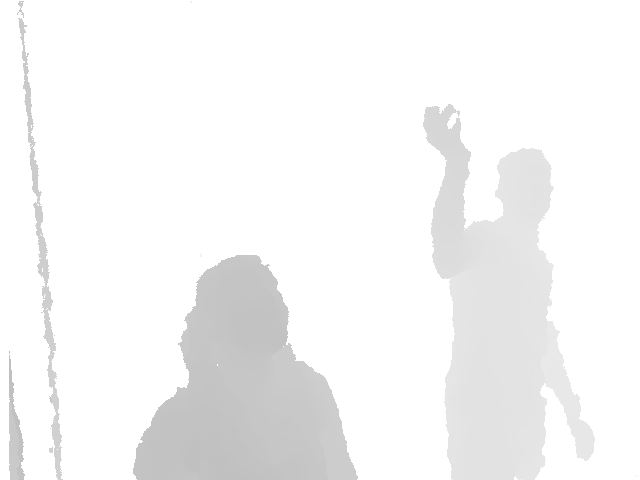hand: (423, 105, 472, 165)
head: (195, 253, 290, 355), (494, 147, 555, 220)
person: (423, 105, 596, 480), (132, 253, 360, 480)
